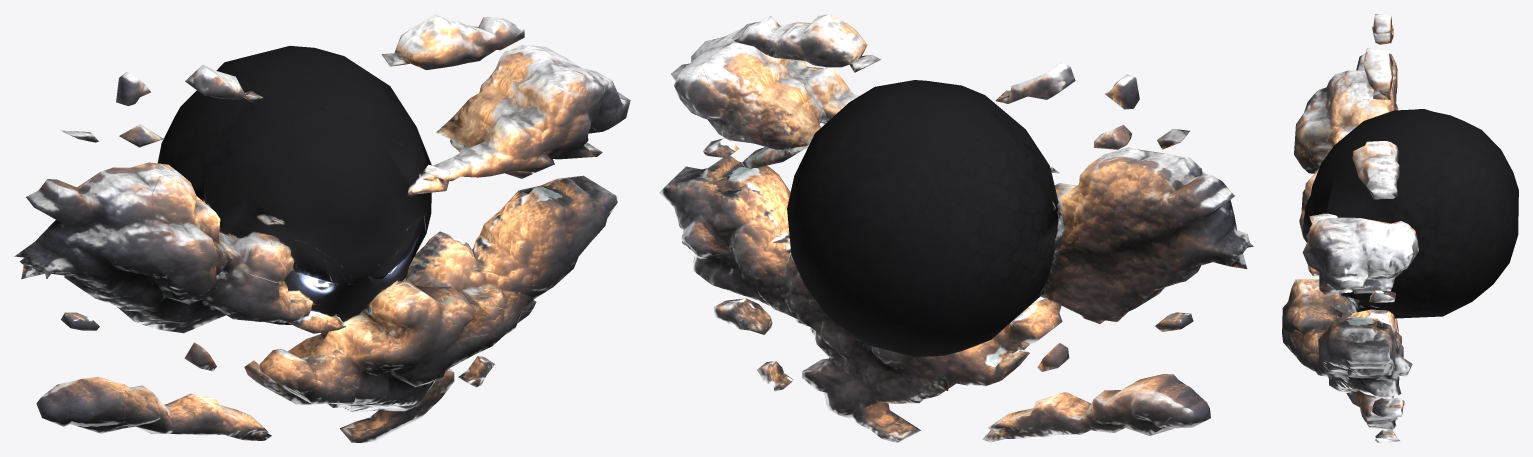
File: Meshy_AI_Eye_of_the_Eclipse_0520030751_texture.fbx
3 renders of one model, left to right at view 1: azimuth 30°, elevation 25°; view 2: azimuth 150°, elevation 25°; view 3: azimuth 270°, elevation 25°, orthographic. The views are drawn at different scales.
Parts seen in each view (by area): view 1: Mesh1.0; view 2: Mesh1.0; view 3: Mesh1.0.
Part boxes in pixels (x1,y1,x2,y2): Mesh1.0: [14, 14, 630, 442]; Mesh1.0: [659, 14, 1253, 442]; Mesh1.0: [1282, 14, 1518, 442].
Bounding box in the file's own units: 190 × 128 × 86.74.
Materials: 1 (1 with a texture image).
